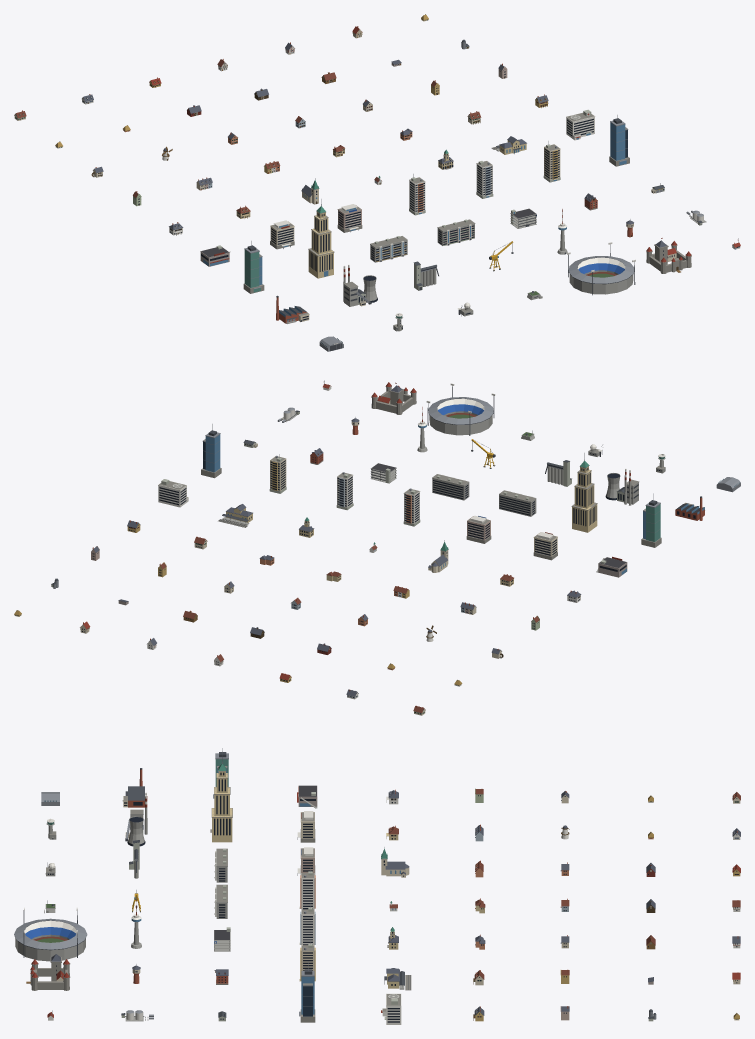
File: world_buildings.glb
3 views of the same model, one above another, from view 1: azimuth 30°, elevation 25°; view 2: azimuth 150°, elevation 25°; view 3: azimuth 270°, elevation 25° (orthographic). The views are drawn at different scales.
Visible parts, largest first — view 1: Haus_Stadion, Haus_Wolkenkratzer, Haus_Burg, Haus_Kraftwerk, Haus_Bueroturm_2, Haus_Bueroturm, Haus_Plattenbau, Haus_Plattenbau_2, Haus_Krankenhaus, Haus_Hotel, Haus_Wohnturm_3, Haus_Wohnturm (+2 smaller); view 2: Haus_Stadion, Haus_Wolkenkratzer, Haus_Burg, Haus_Kraftwerk, Haus_Bueroturm, Haus_Bueroturm_2, Haus_Plattenbau, Haus_Plattenbau_2, Haus_Krankenhaus, Haus_Wohnturm_3, Haus_Hotel_2, Haus_Hotel (+2 smaller); view 3: Haus_Stadion, Haus_Wolkenkratzer, Haus_Burg, Haus_Bueroturm, Haus_Kraftwerk, Haus_Wohnturm, Haus_Wohnturm_2, Haus_Krankenhaus, Haus_Fabrik, Haus_Kirche, Haus_Hotel, Haus_Bahnhof.
Boxes of the visible parts, x1,y1,x2,y2 form: Haus_Stadion: (567,242,635,295); Haus_Wolkenkratzer: (308,199,334,278); Haus_Burg: (646,238,691,273); Haus_Kraftwerk: (343,264,377,306); Haus_Bueroturm_2: (243,241,264,293); Haus_Bueroturm: (609,115,629,166); Haus_Plattenbau: (370,236,407,262); Haus_Plattenbau_2: (437,219,475,245); Haus_Krankenhaus: (566,109,595,140); Haus_Hotel: (270,220,294,249); Haus_Wohnturm_3: (543,141,560,182); Haus_Wohnturm: (409,174,425,215); Haus_Stadion: (426,383,495,435); Haus_Wolkenkratzer: (571,453,597,532); Haus_Burg: (371,382,416,414); Haus_Kraftwerk: (605,468,639,505); Haus_Bueroturm: (201,424,221,478); Haus_Bueroturm_2: (641,493,661,547); Haus_Plattenbau: (499,490,536,516); Haus_Plattenbau_2: (432,474,469,500); Haus_Krankenhaus: (158,479,188,507); Haus_Wohnturm_3: (269,454,286,493); Haus_Hotel_2: (466,515,491,543); Haus_Hotel: (533,532,557,560); Haus_Stadion: (14,907,87,961); Haus_Wolkenkratzer: (210,755,232,842); Haus_Burg: (26,954,70,990); Haus_Bueroturm: (299,961,315,1022); Haus_Kraftwerk: (125,792,147,846); Haus_Wohnturm: (299,867,315,909); Haus_Wohnturm_2: (299,903,315,945); Haus_Krankenhaus: (381,993,401,1024); Haus_Fabrik: (122,768,144,807); Haus_Kirche: (381,847,409,877); Haus_Hotel: (297,811,315,842); Haus_Bahnhof: (384,968,411,990).
Size of the model in its own units: 587 by 98.8 by 780.
